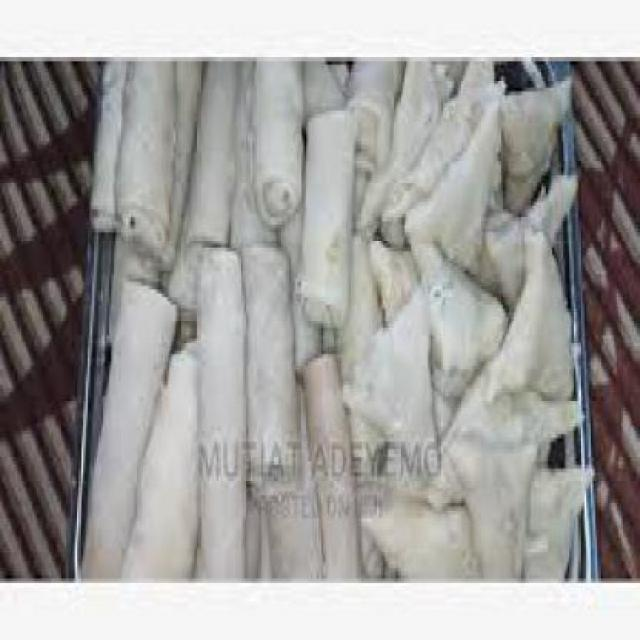samosa: (381, 58, 582, 579)
spring rolls: (94, 57, 349, 575)
